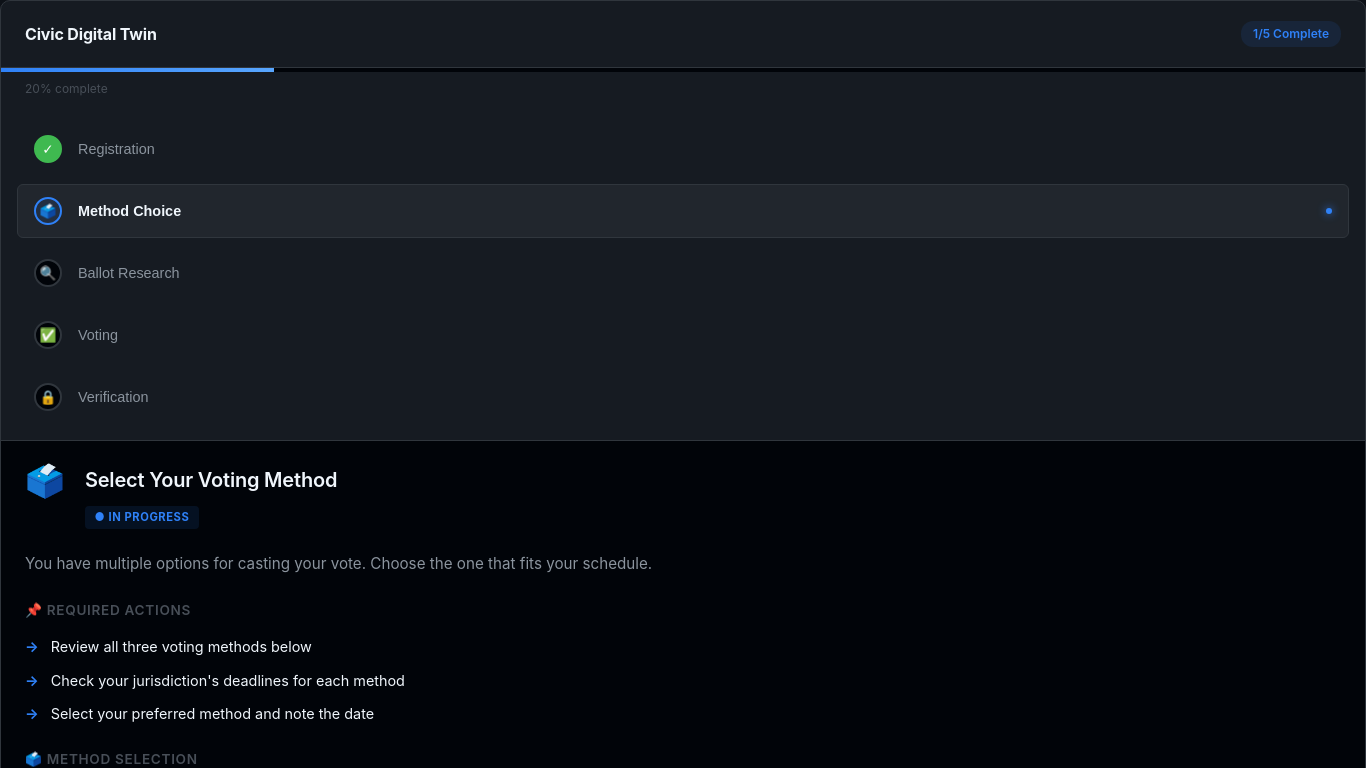
it: Step Click Interaction › clicking Voting shows its headline
Click the button "✅ Voting" at x=98, y=335, box x1=17 y1=308 x2=1349 y2=362
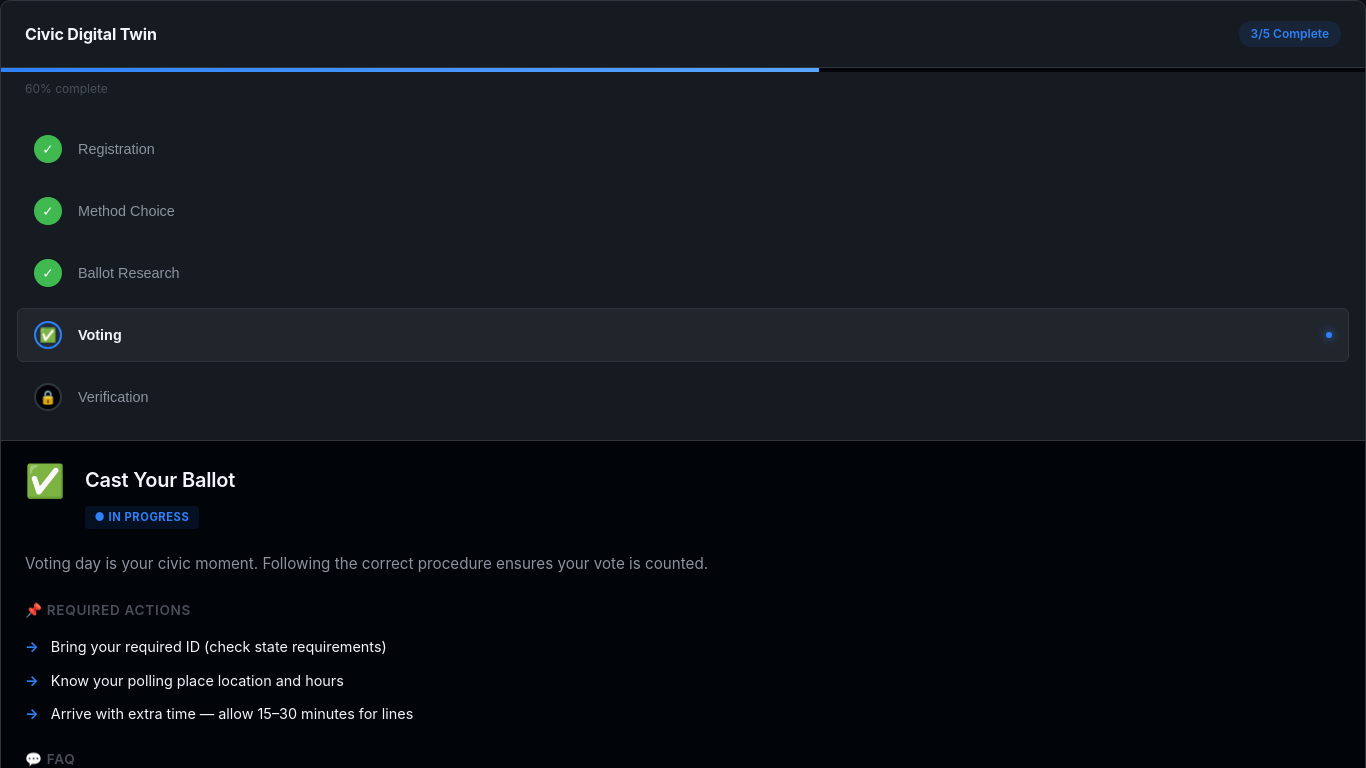
Result: the heading "Cast Your Ballot" is shown at x1=85 y1=465 x2=235 y2=495
